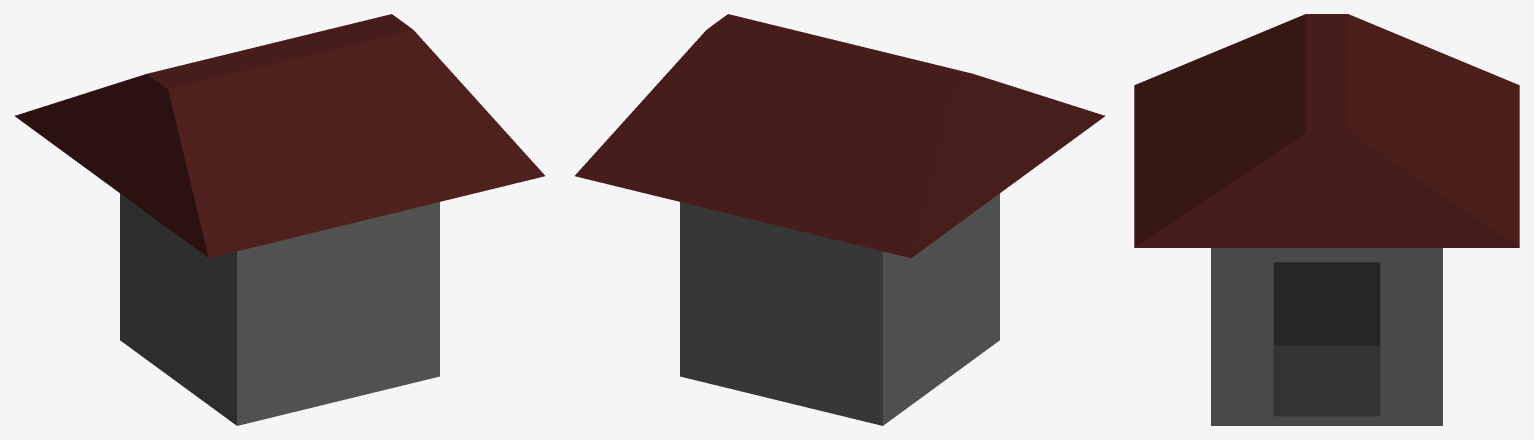
The picture shows the model from 3 angles, left to right: view 1: azimuth 30°, elevation 25°; view 2: azimuth 150°, elevation 25°; view 3: azimuth 270°, elevation 25°; orthographic projection.
Parts seen in each view (by area): view 1: Cube; view 2: Cube; view 3: Cube.
Part boxes in pixels (left/top/right/bottom): Cube: left=15, top=14, right=544, bottom=425; Cube: left=575, top=14, right=1104, bottom=425; Cube: left=1134, top=14, right=1519, bottom=425.
Bounding box in the file's own units: 332 × 289 × 332.
